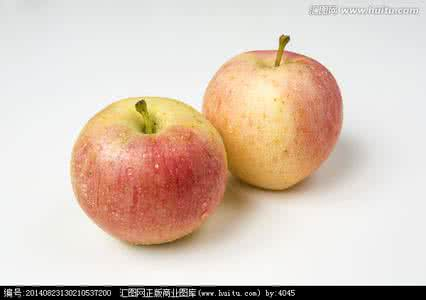apple: (64, 90, 228, 245), (206, 29, 345, 188)
